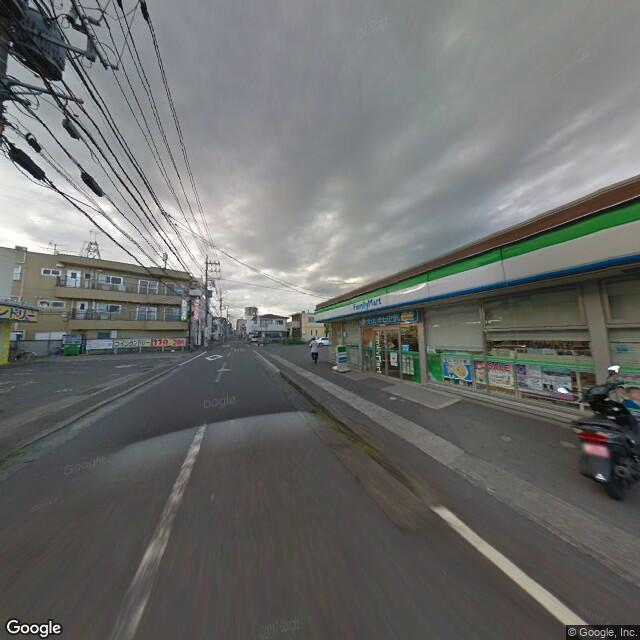family_mart: (313, 200, 637, 322), (351, 295, 383, 314)
